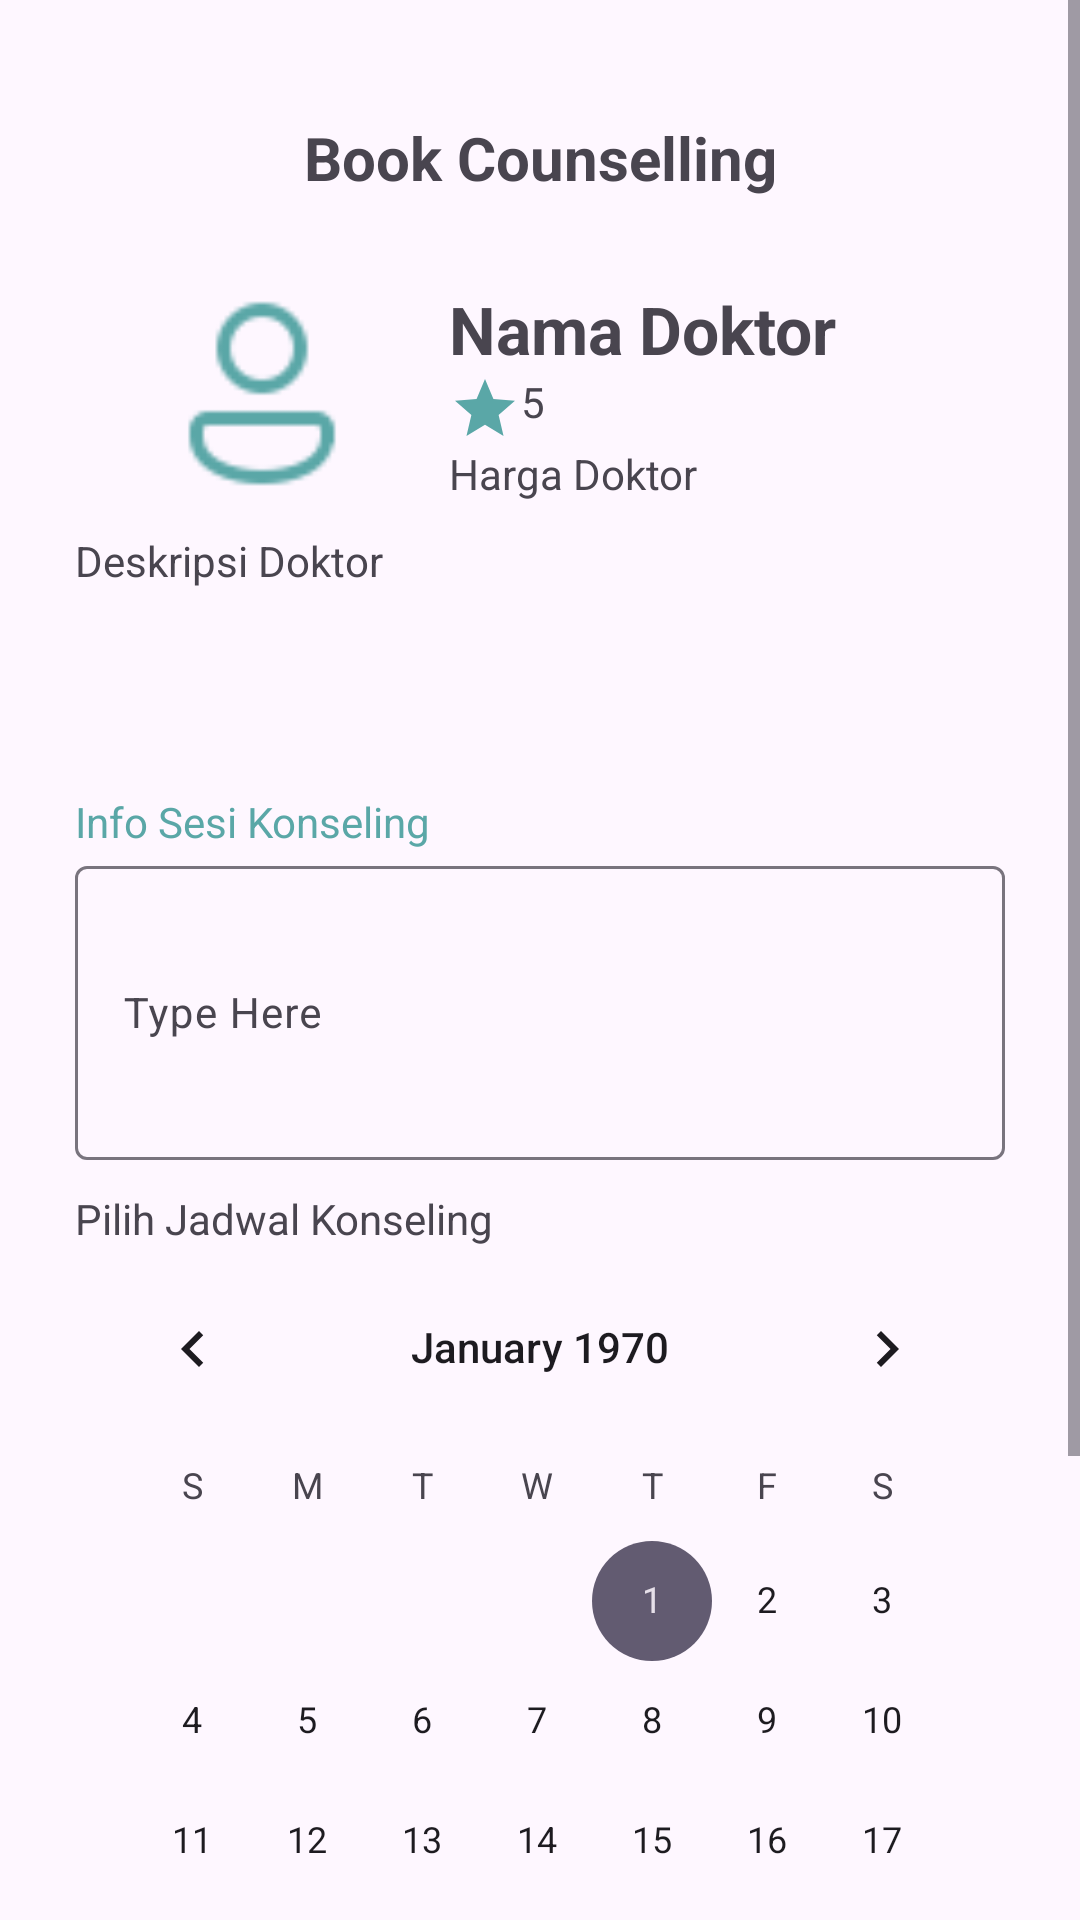

Where icons sit on this 1080px×1920px app screen, as {"x1": x1, "y1": y1, "x2": x2, "y2": y2}:
profile: {"x1": 188, "y1": 302, "x2": 336, "y2": 485}
